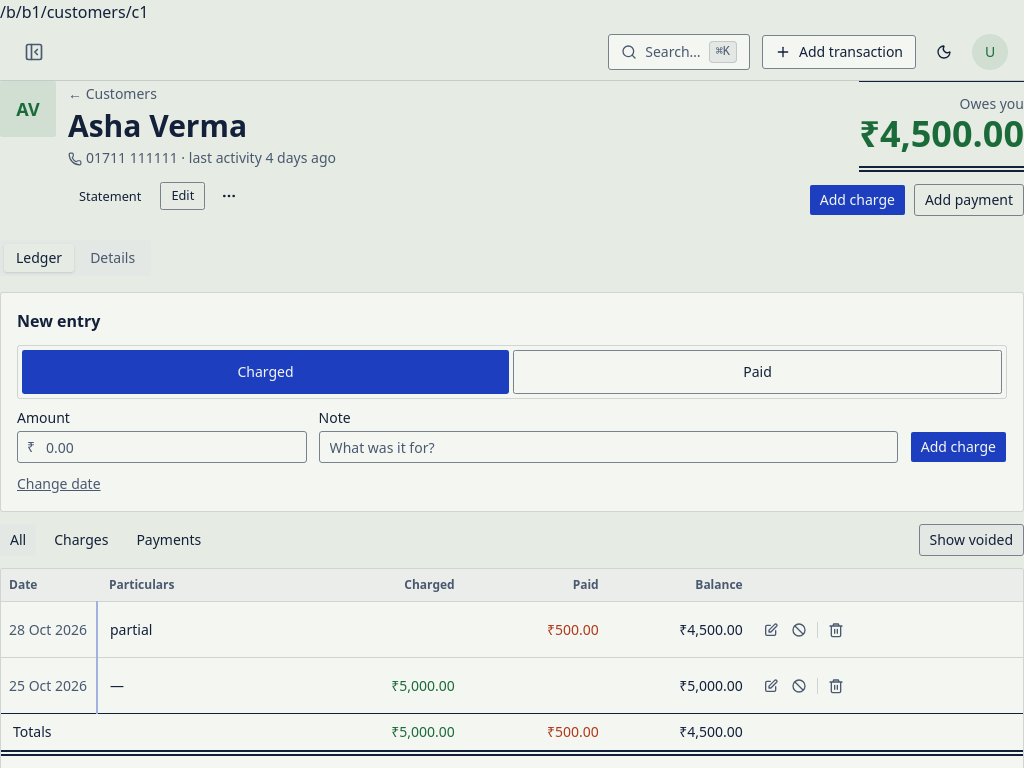
Test case: S-34 void and restore transactions › voids with a confirmation and optional reason: the row stays, muted, with a Voided badge; the balance stops counting it; Undo is offered
The width and height of the screenshot is (1024, 768).
Expected: the tab "Ledger" is shown, [4,244,74,272]
Click the button named "Void payment of ₹500.00" at (799, 630), box [787,618,811,642]
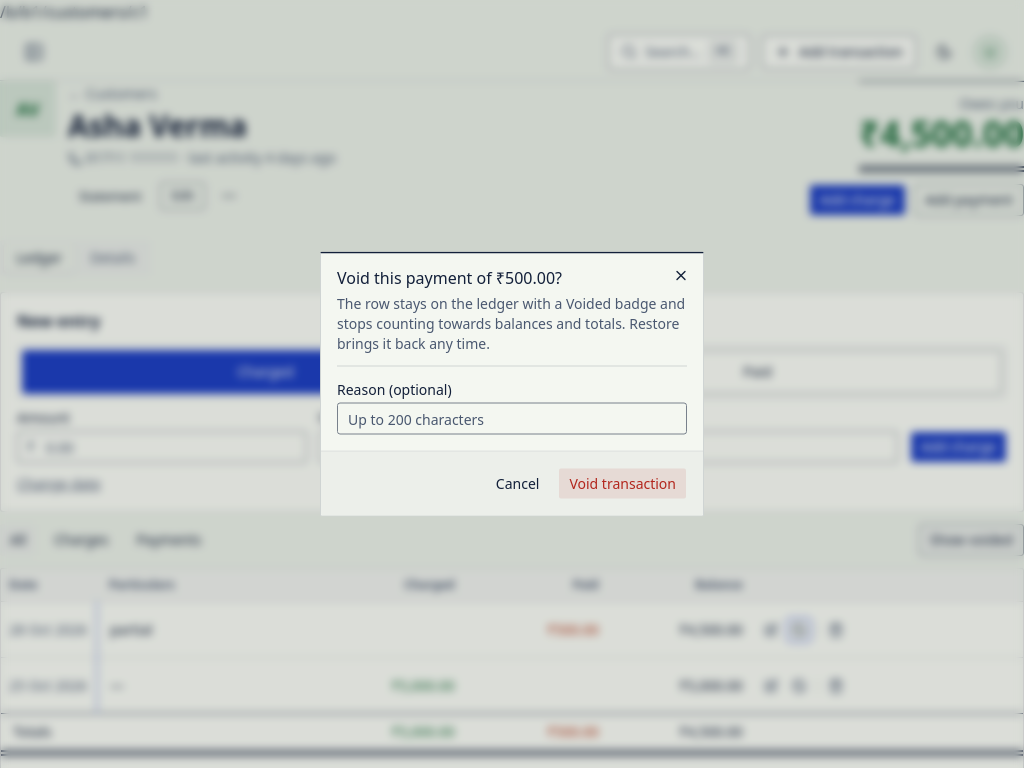
Result: the heading "Void this payment of ₹500.00?" is shown at [337,266,562,288]
Type "Duplicate entry" into the field labelled "Reason (optional)" at (512, 418), box [337,402,687,434]
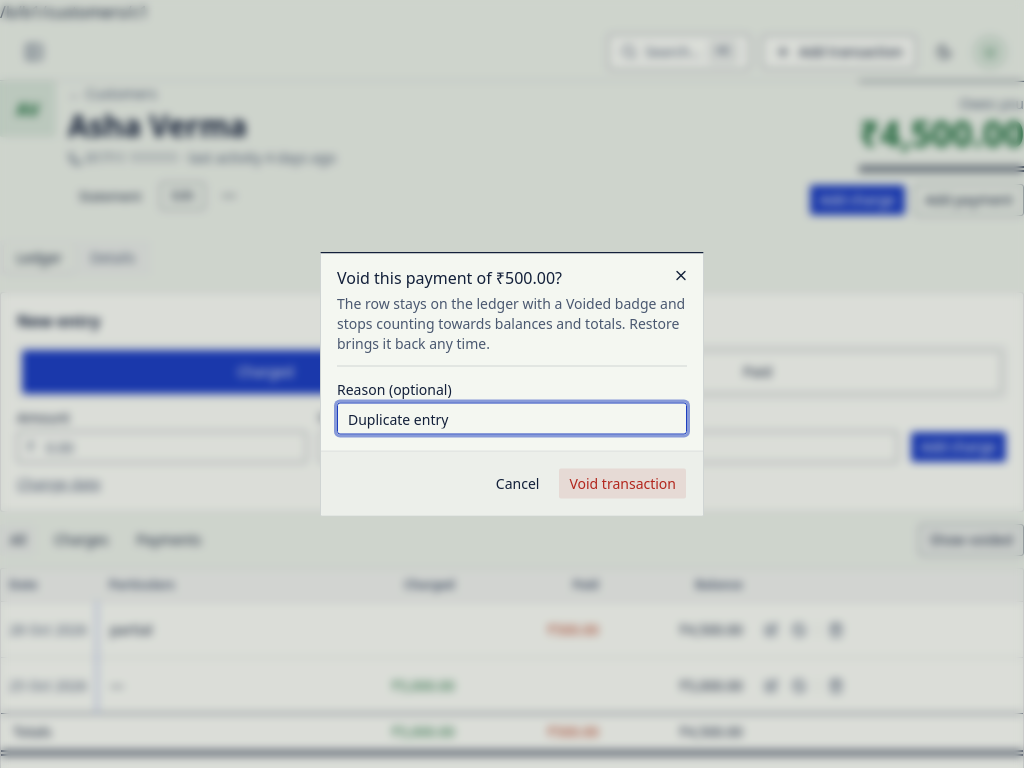
Click the button "Void transaction" at (623, 484), box [558,468,687,500]
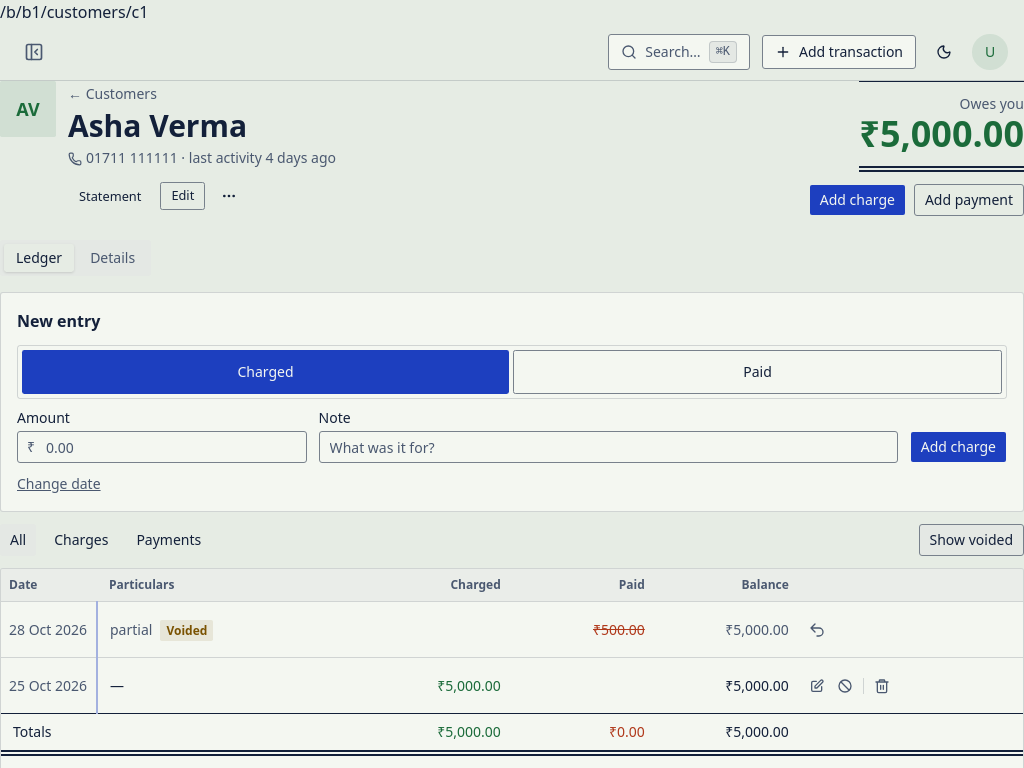
Result: the text "Voided" is shown at [160,620,213,640]
Result: the dialog is gone
